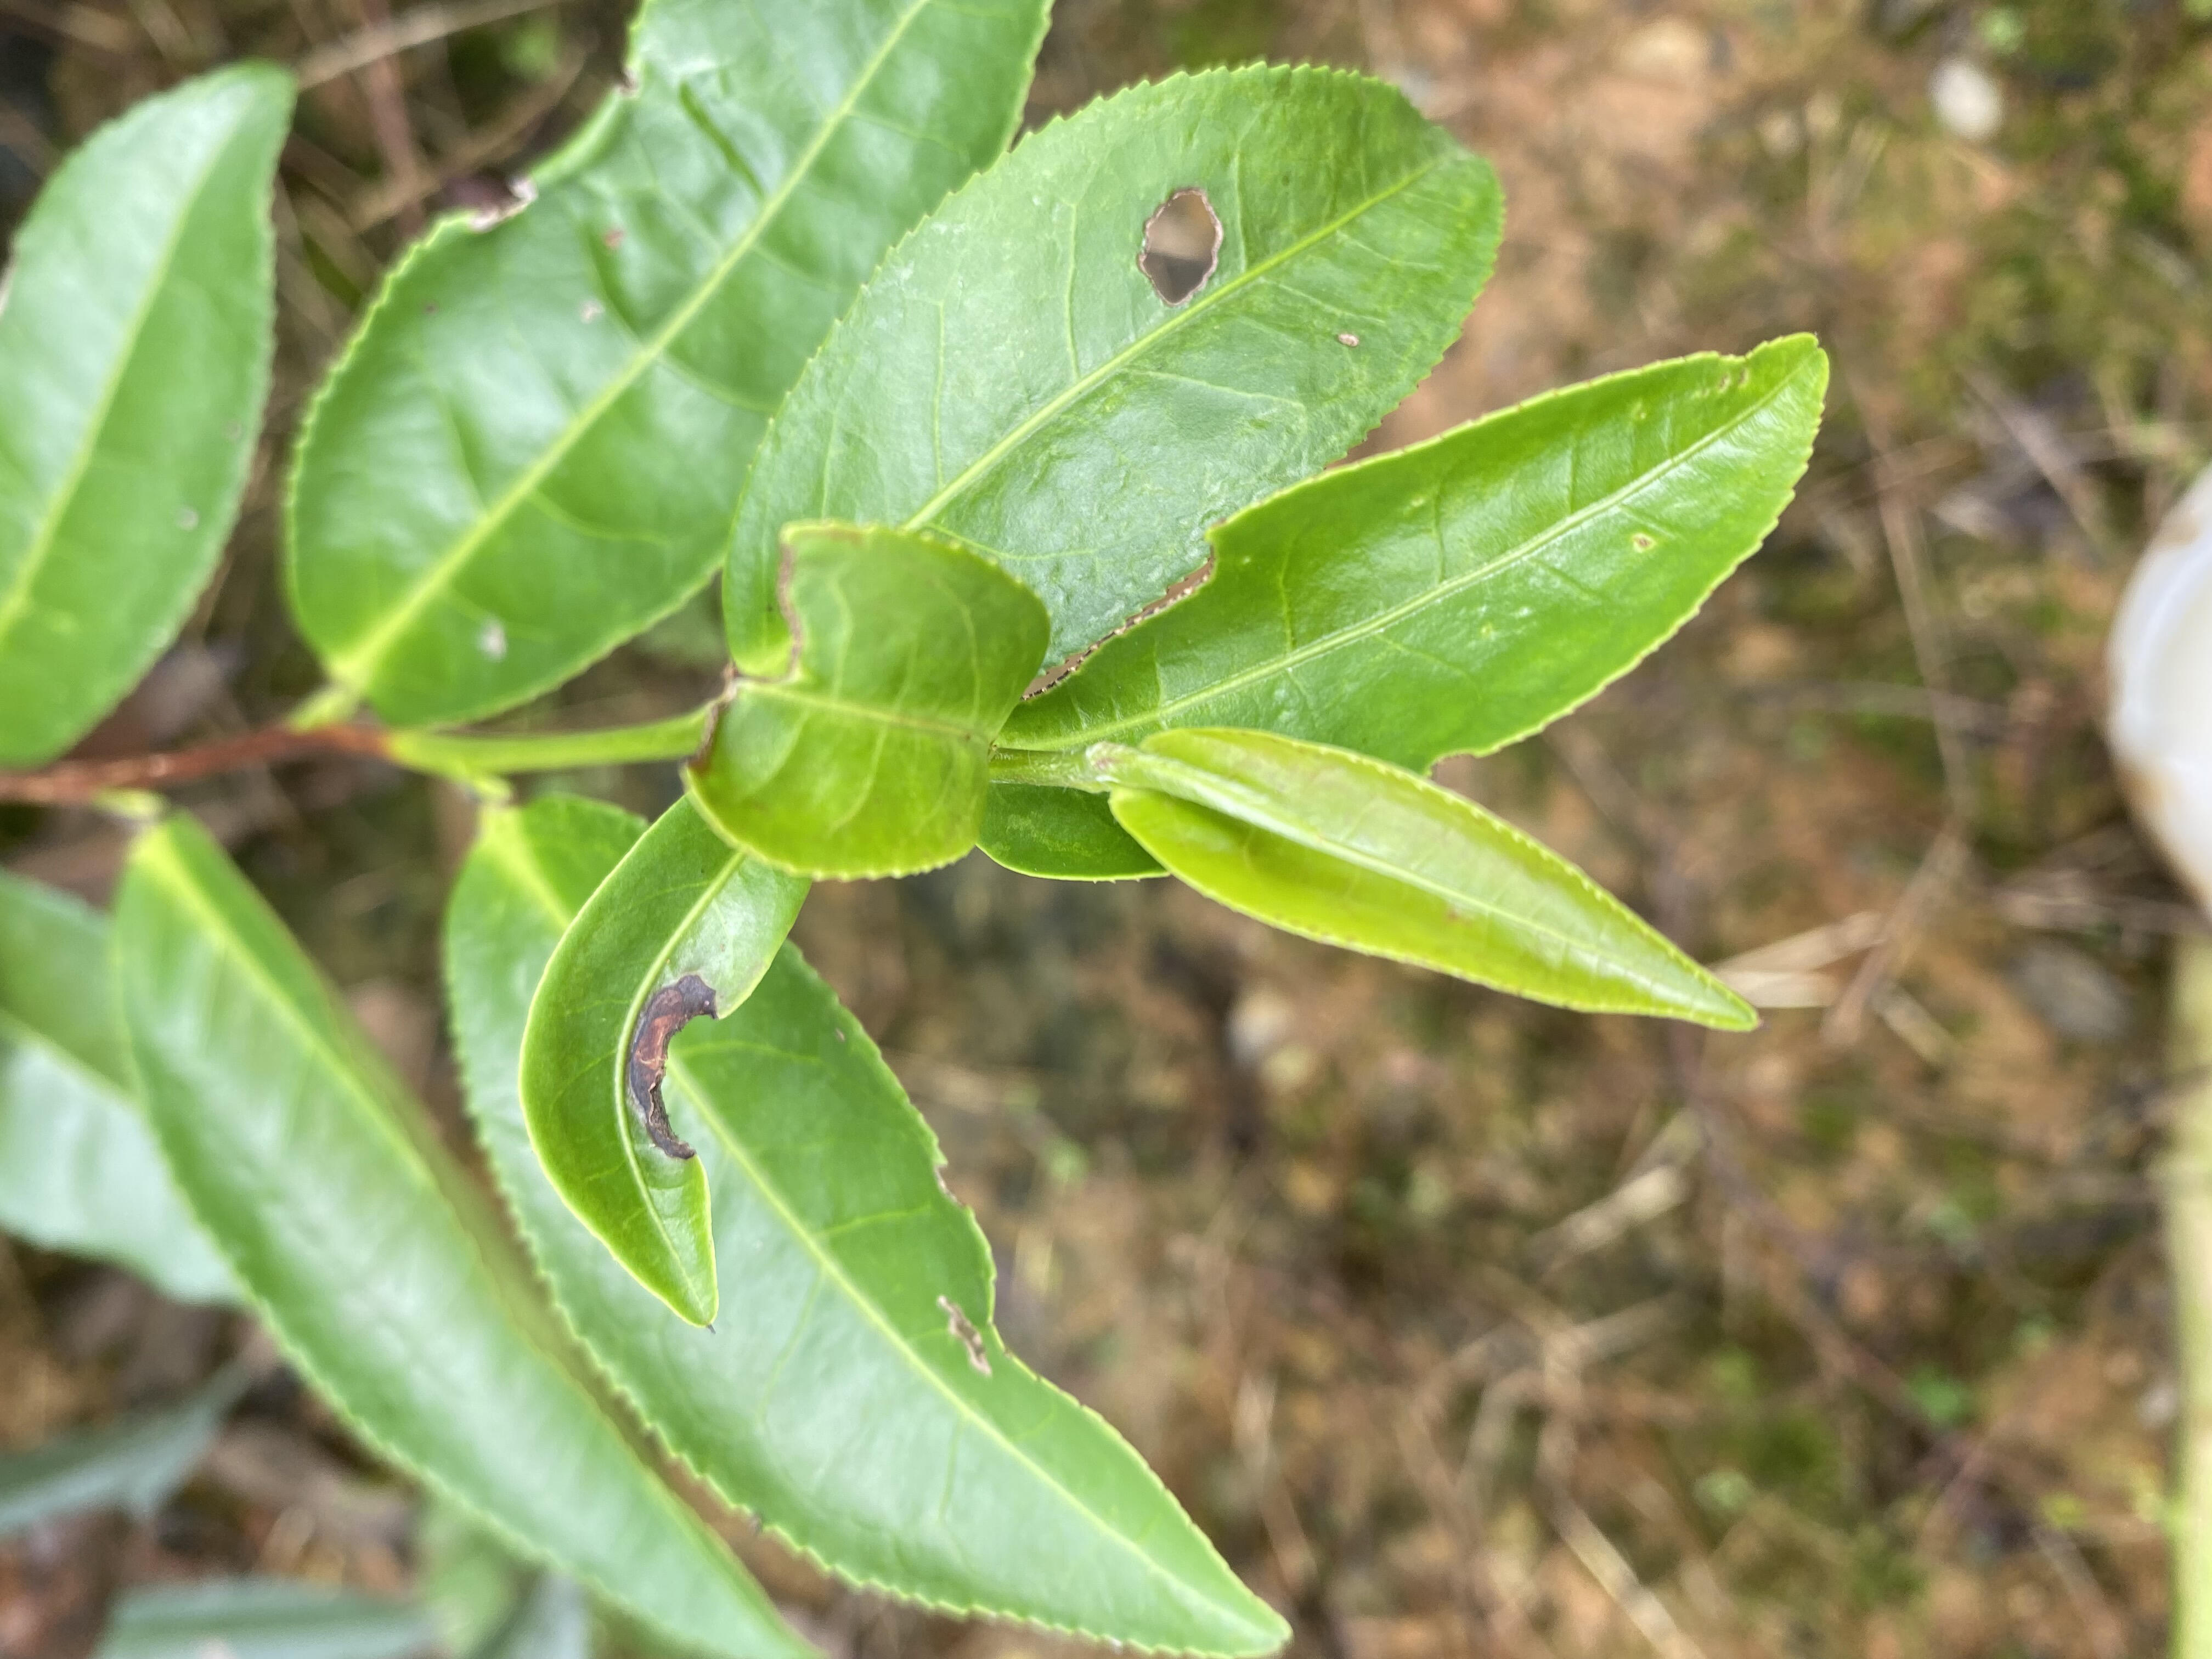chihuo_high: (986, 329, 1832, 880)
chihuo_low: (723, 59, 1503, 692), (683, 519, 1052, 880)
tanju_high: (519, 795, 813, 1333)
tanju_low: (286, 3, 1052, 732), (1106, 727, 1759, 1032)
